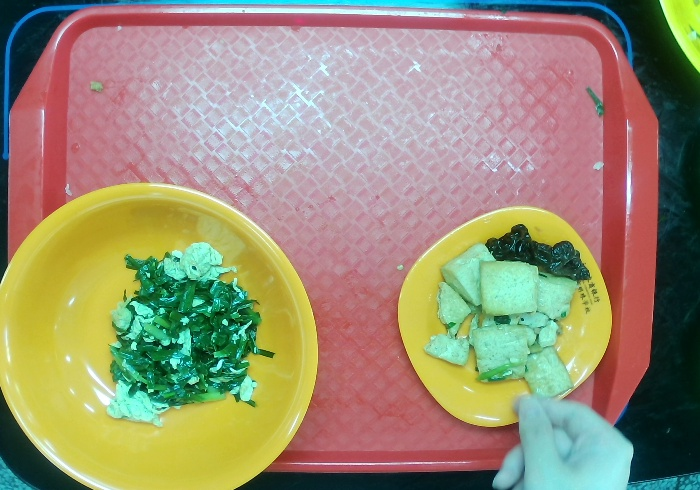YKMZ-Ju_Se_Fang_Die: (390, 201, 616, 434)
YKMZ-Ju_Se_Tang_Wan: (1, 176, 327, 490)
